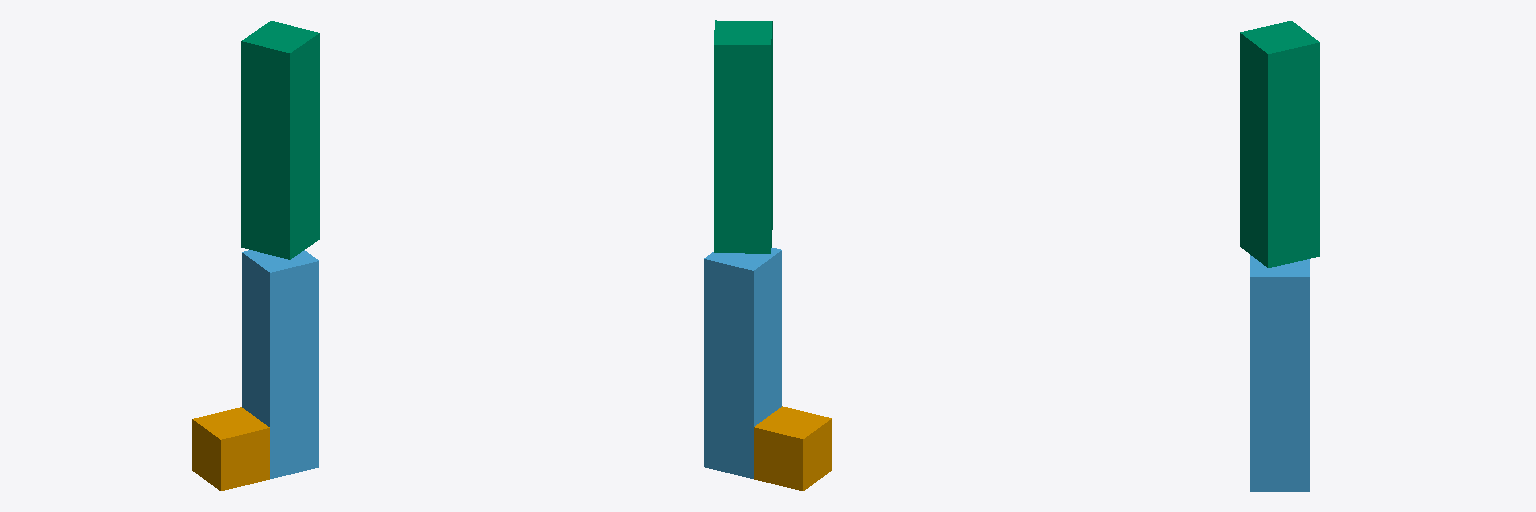
robot.urdf — robot_chaine:
<?xml version="1.0"?>
	<robot name="robot_chaine">

		<!-- lien 1 -->
		<link name="base_link">
			<visual>
				<origin rpy="0 0 0" xyz="0 0 0"/>
				<geometry>
					<box size="0.4 0.4 0.4"/>
			   </geometry>
			</visual>

			<collision>
				<origin rpy="0 0 0" xyz="0 0 0"/>
				<geometry>
					<box size="0.4 0.4 0.4"/>
			   </geometry>
    		</collision>
		</link>
		<!-- fin lien 1 -->

		<!-- lien 2--> 
		<link name="up_link">
			<visual>
				<origin rpy="0 0 0" xyz="0.4 0 0.6"/>
				<geometry>
					<box size="0.4 0.4 1.6"/>
			   </geometry>
			</visual>
			<collision>
				<origin rpy="0 0 0" xyz="0.4 0 0.6"/>
				<geometry>
					<box size="0.4 0.4 1.6"/>
		      </geometry>
	    	</collision>
		</link>
		<!--  fin lien 2 -->
		
		<!-- lien 3--> 
		<link name="tail_link">
			<visual>
				<origin rpy="0 0 0.50" xyz="0.4 0 2.3"/>
				<geometry>
					<box size="0.4 0.4 1.6"/>
			   </geometry>
			</visual>
			<collision>
				<origin rpy="0 0 0.5" xyz="0.4 0 2.3"/>
				<geometry>
					<box size="0.4 0.4 1.6"/>
		      </geometry>
	    	</collision>
		</link>
		<!--  fin lien 3 -->

   <joint name="base_to_up" type="fixed">
       <parent link="base_link"/>
       <child link="up_link"/>
			<origin xyz="0 0 0"/>
   </joint>

	<joint name="up_to_tail" type="revolute">
		<parent link="up_link"/>
		<child link="tail_link"/>
		<axis xyz="1 0 0"/>
		<origin xyz="0 0 0"/>
		<limit effort="1000" lower="-1.2" upper="1.2" velocity="0.5"/>
	</joint>

	</robot>

--- What the picture shows (computed from the rendered views, not written in the file) ---
Views: 3 orthographic renders of the robot side by side, from view 1: azimuth 30°, elevation 25°; view 2: azimuth 150°, elevation 25°; view 3: azimuth 270°, elevation 25°.
Model robot_chaine with 3 links and 2 joints (1 revolute, 1 fixed), rooted at base_link, posed all joints at 0.
Links seen in each view (by area): view 1: tail_link, up_link, base_link; view 2: up_link, tail_link, base_link; view 3: tail_link, up_link.
Boxes of the visible links, x1,y1,x2,y2 form: tail_link: (241,21,319,259); up_link: (242,250,318,478); base_link: (192,407,269,490); up_link: (704,248,781,478); tail_link: (714,20,772,253); base_link: (754,406,831,490); tail_link: (1240,21,1319,267); up_link: (1250,255,1309,491).
Size in the robot's own frame: 0.8714 by 0.5428 by 3.3 metres.
Geometry: primitives only (box / cylinder / sphere), no mesh files.